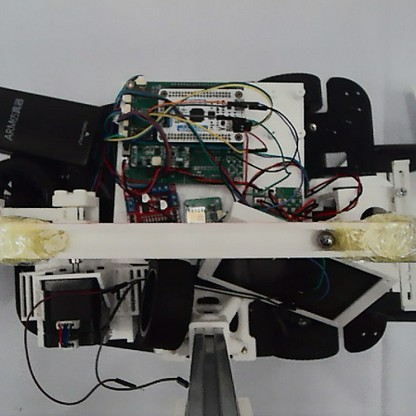ironball: (315, 228, 335, 249)
